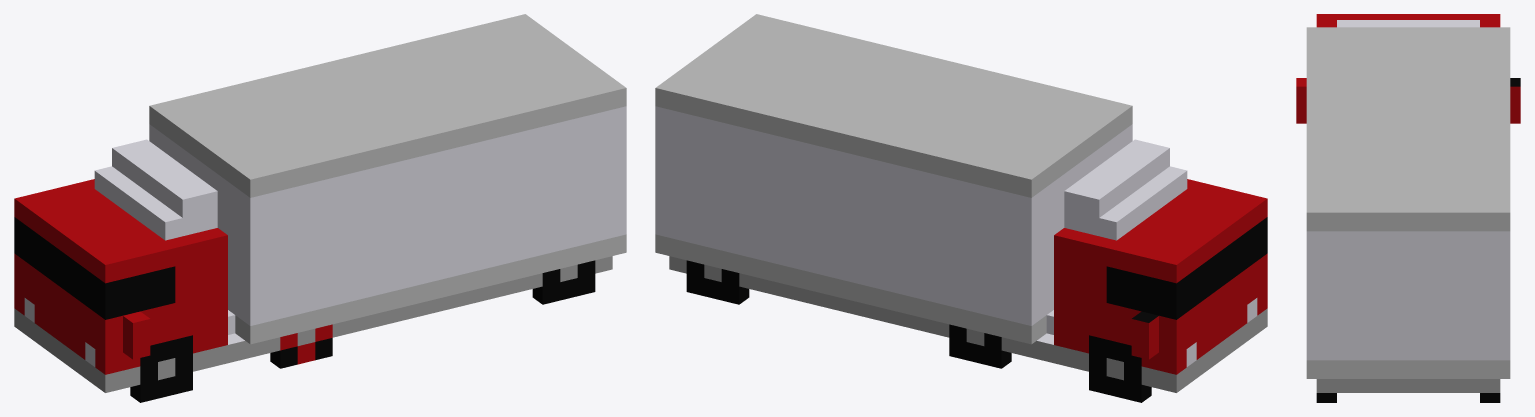
Rendered from camion_3.glb.
The picture shows the model from 3 angles, left to right: view 1: azimuth 30°, elevation 25°; view 2: azimuth 150°, elevation 25°; view 3: azimuth 270°, elevation 25°; orthographic projection.
Visible parts, largest first — view 1: Camion_3; view 2: Camion_3; view 3: Camion_3.
Boxes of the visible parts, left/top/right/bottom form: Camion_3: left=14, top=14, right=626, bottom=402; Camion_3: left=655, top=14, right=1267, bottom=402; Camion_3: left=1296, top=14, right=1520, bottom=402.
Bounding box in the file's own units: 29.5 × 11 × 11.
